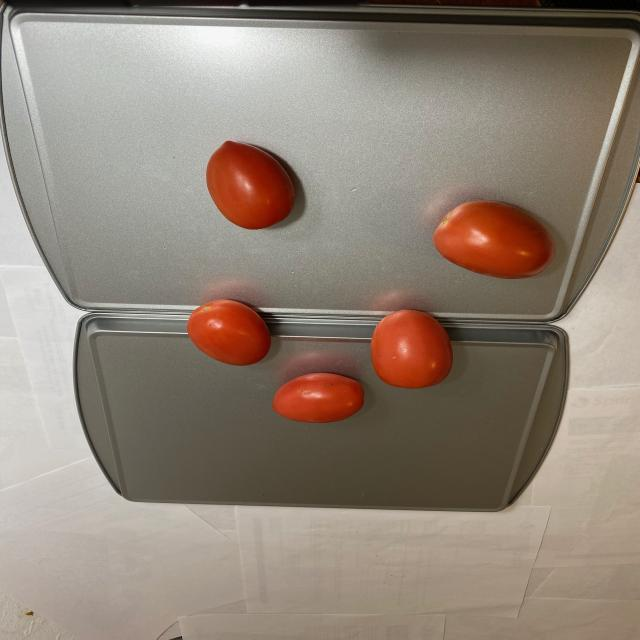tomato: (184, 299, 456, 424), (435, 199, 558, 281), (210, 136, 295, 236)
